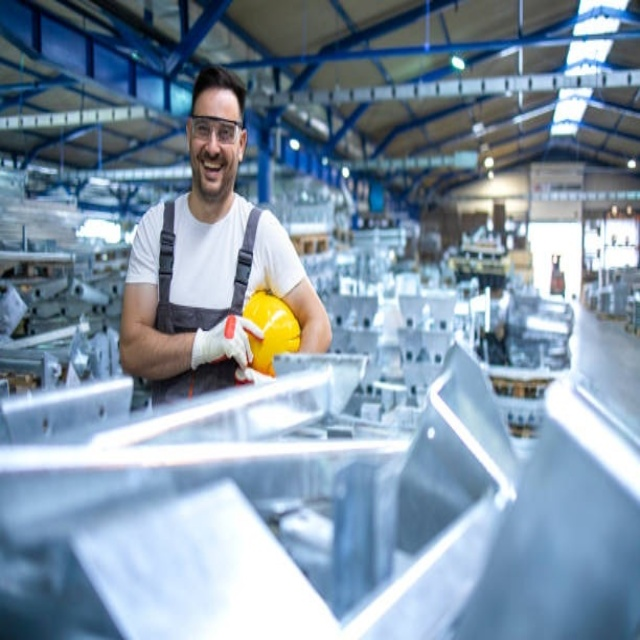Gafas: (186, 113, 245, 146)
Guantes: (191, 314, 265, 369)
Sin_mascara: (198, 155, 228, 191)
